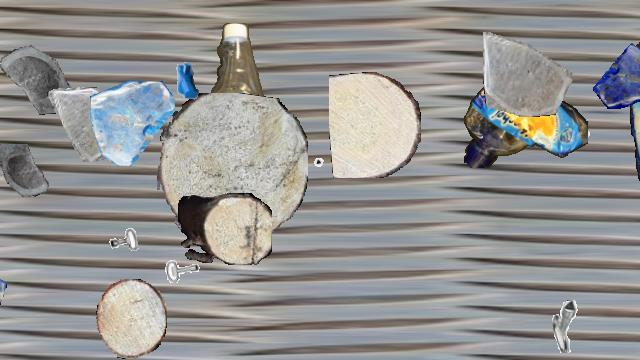glass: (483, 27, 573, 117), (90, 81, 174, 165), (0, 32, 72, 114), (46, 87, 120, 161), (0, 144, 57, 206), (592, 42, 640, 108), (0, 248, 6, 306)
metal: (95, 195, 155, 255), (158, 51, 214, 107), (552, 299, 606, 353), (162, 255, 208, 301), (554, 100, 594, 140), (310, 156, 350, 196)
plastic: (190, 23, 272, 221), (462, 77, 588, 167), (630, 1, 640, 219)
wood: (157, 93, 307, 245), (329, 72, 421, 178), (178, 193, 272, 265), (96, 279, 166, 359)
